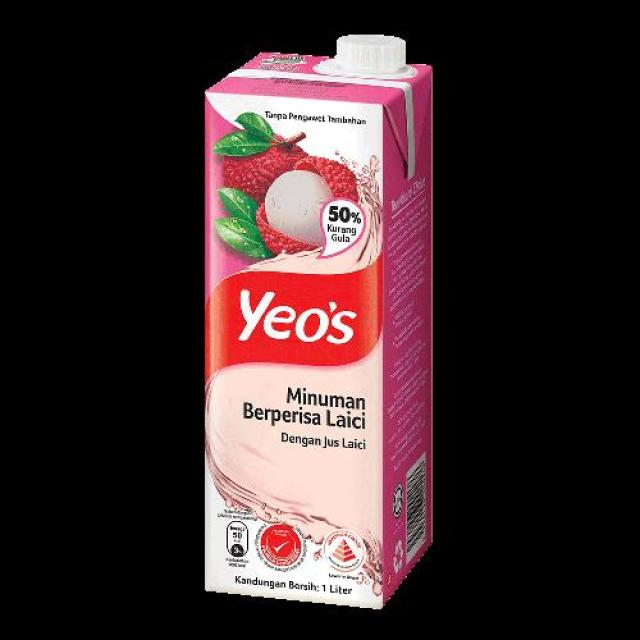drink carton: (201, 48, 433, 612)
plastic bottle cap: (323, 28, 414, 80)
